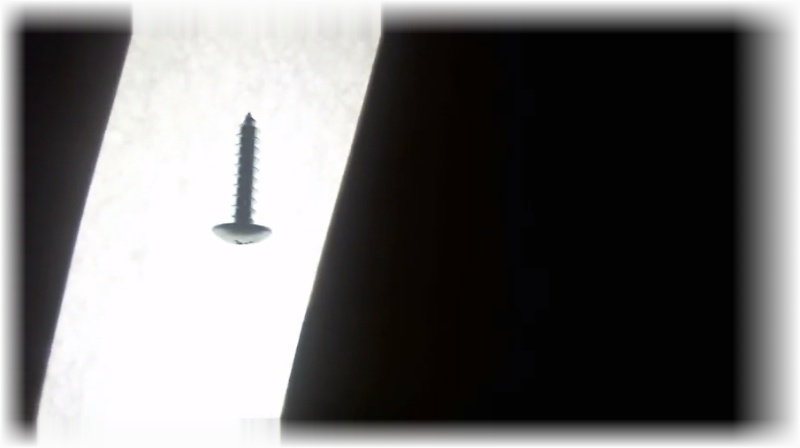S003: (208, 109, 275, 249)
